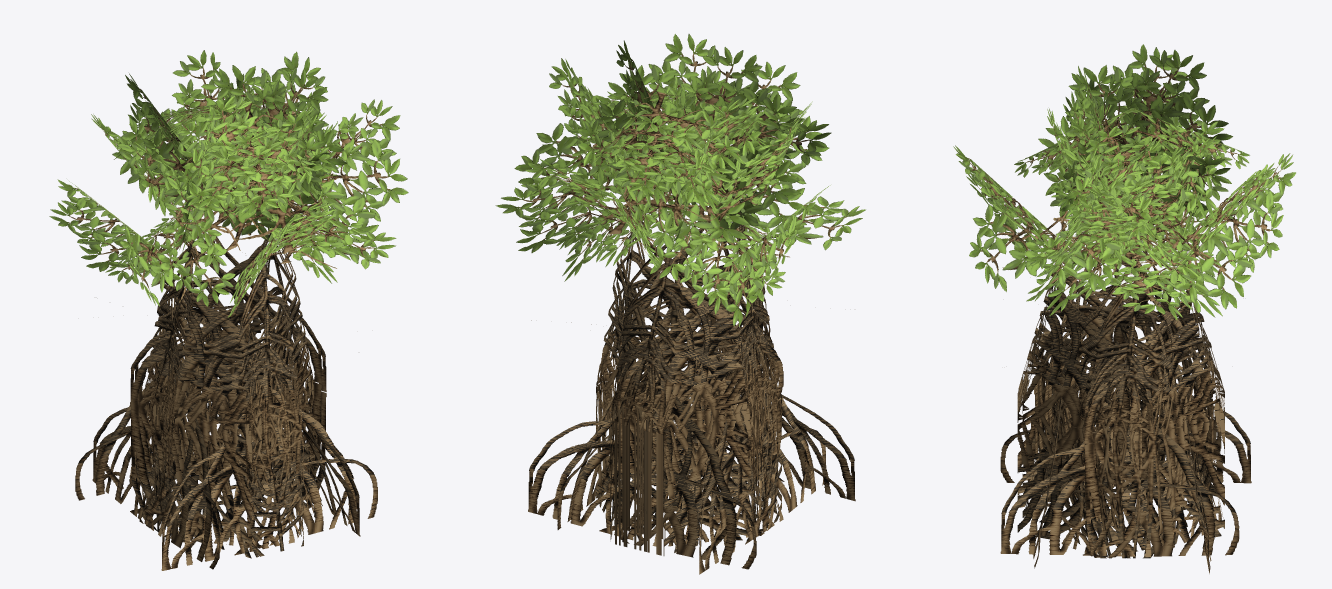
The model's file is mangrove_1.glb.
3 renders of one model, left to right at view 1: azimuth 30°, elevation 25°; view 2: azimuth 150°, elevation 25°; view 3: azimuth 270°, elevation 25°, orthographic. The views are drawn at different scales.
Parts seen in each view (by area): view 1: mangrove_1; view 2: mangrove_1; view 3: mangrove_1.
Part boxes in pixels (x1,y1,x2,y2): mangrove_1: (49,50,408,570); mangrove_1: (495,34,865,574); mangrove_1: (953,44,1295,573).
Bounding box in the file's own units: 6.85 × 8.87 × 6.92.
Materials: 2 (2 with a texture image).
